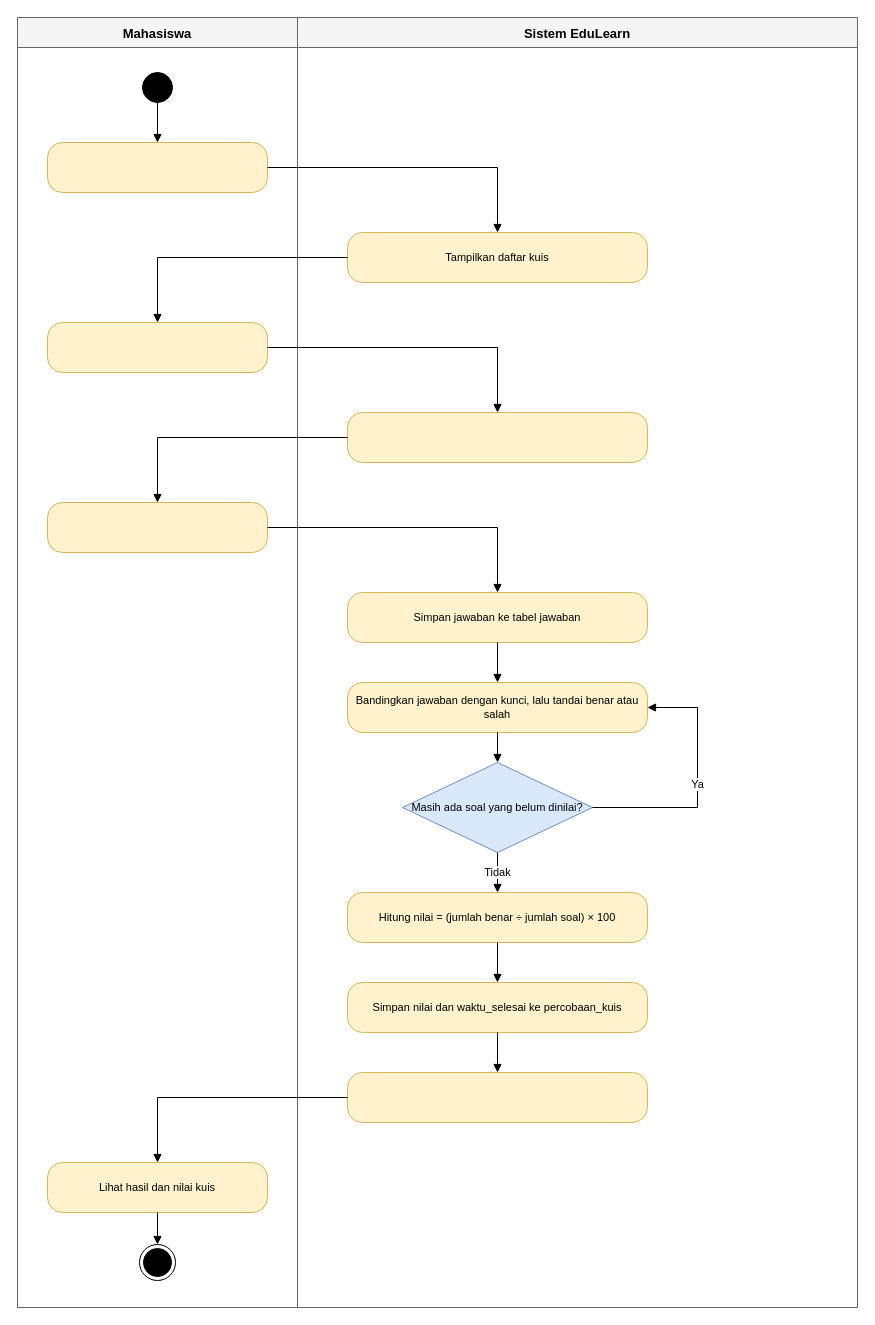
The diagram is 875 pixels wide and 1325 high, and some of its shapes have lost their labels. The centre of each missing label's shape, as x and y in pixels:
"Catat percobaan (waktu_mulai) dan tampilkan soal" goes at point (497, 437).
"Jawab soal, lalu kirim jawaban (atau waktu habis)" goes at point (157, 527).
"Pilih kuis" goes at point (157, 347).
"Pilih menu Kuis" goes at point (157, 167).
"Tampilkan hasil kuis" goes at point (497, 1097).
